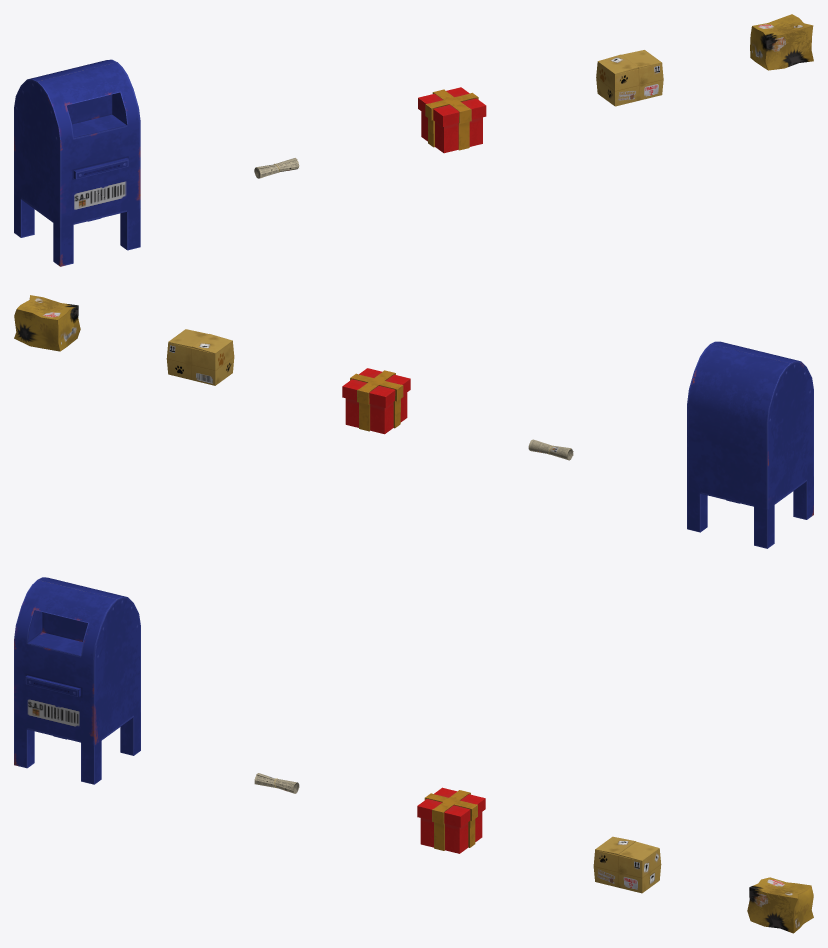
File: MailPacks.fbx
3 views of the same model, one above another, from view 1: azimuth 30°, elevation 25°; view 2: azimuth 150°, elevation 25°; view 3: azimuth 330°, elevation 25° (orthographic).
Parts seen in each view (by area): view 1: MailBox, GiftBox, Package, PackageDestroyed, Newspaper; view 2: MailBox, GiftBox, Package, PackageDestroyed, Newspaper; view 3: MailBox, GiftBox, Package, PackageDestroyed.
Part boxes in pixels (x1,y1,x2,y2): MailBox: [14, 59, 140, 266]; GiftBox: [418, 87, 486, 153]; Package: [596, 50, 663, 106]; PackageDestroyed: [750, 14, 813, 70]; Newspaper: [254, 158, 299, 178]; MailBox: [687, 341, 813, 548]; GiftBox: [342, 368, 410, 434]; Package: [166, 329, 234, 385]; PackageDestroyed: [14, 295, 80, 351]; Newspaper: [528, 439, 573, 460]; MailBox: [14, 577, 140, 784]; GiftBox: [417, 787, 485, 853]; Package: [593, 836, 661, 893]; PackageDestroyed: [747, 877, 813, 933].
Bounding box in the file's own units: 728 × 152 × 79.31.
1 material, 1 textured.
